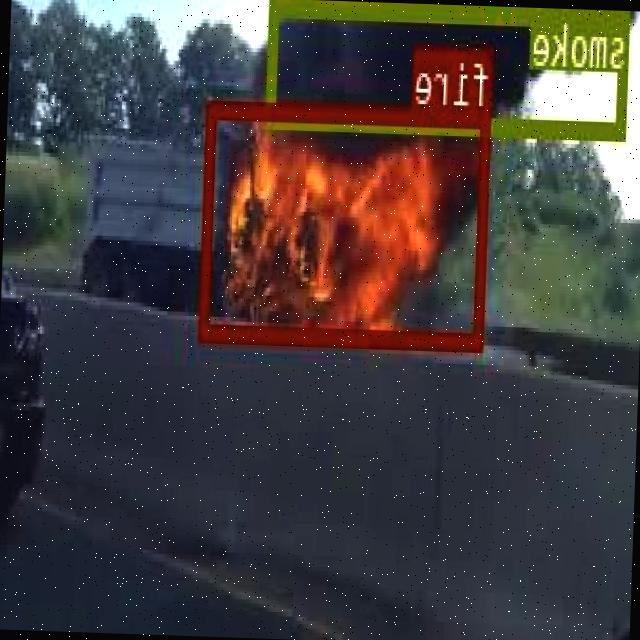fire: (202, 97, 493, 346)
smoke: (268, 0, 631, 137)
